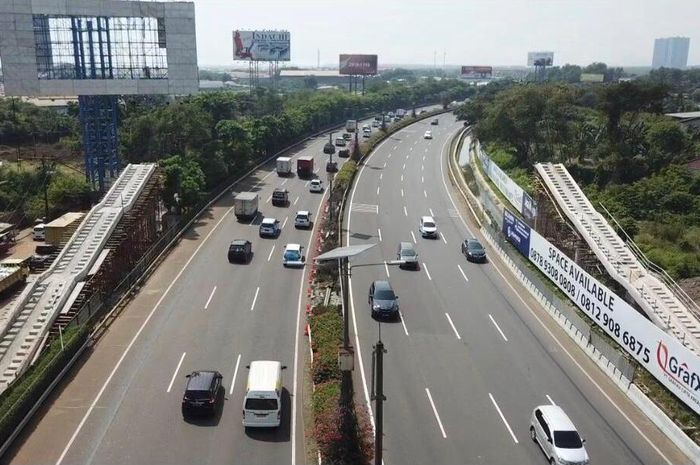car: (528, 404, 588, 465), (243, 360, 283, 431), (183, 369, 221, 418), (369, 279, 399, 322), (397, 238, 420, 271), (463, 237, 487, 264), (235, 192, 258, 219), (228, 240, 251, 262), (259, 218, 279, 239), (298, 157, 316, 180), (421, 214, 437, 238), (284, 243, 301, 265), (271, 188, 290, 205), (277, 157, 292, 178), (295, 212, 311, 228), (309, 179, 322, 195), (326, 159, 339, 173)
